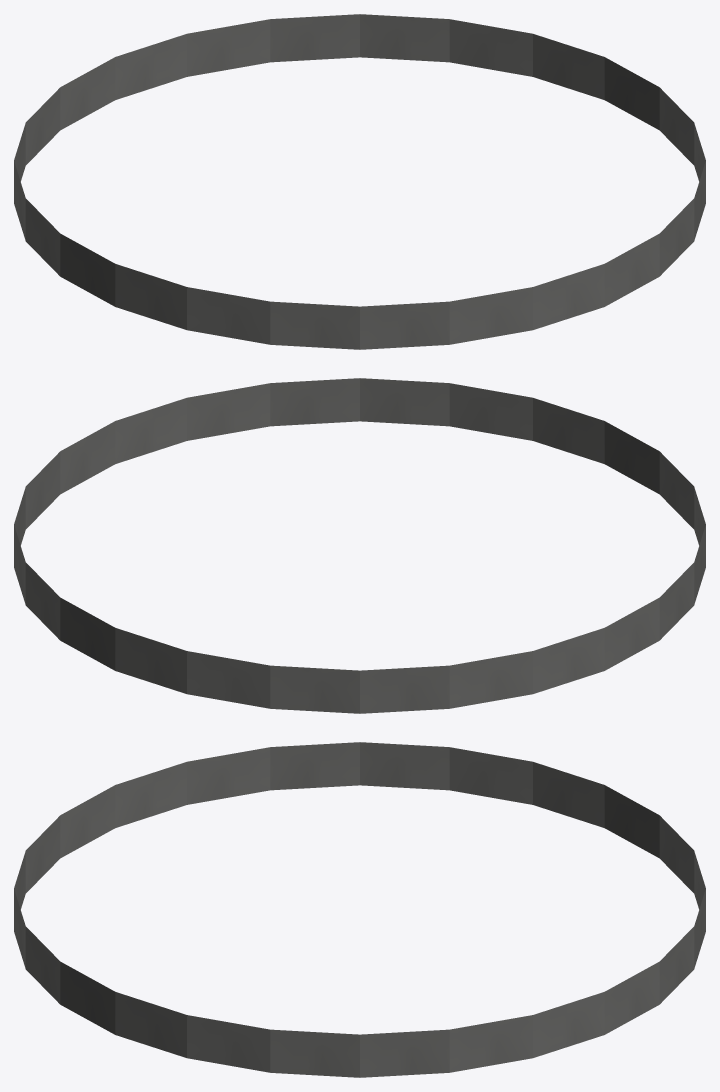
Rendered from table_plate.min.dae.
3 renders of one model, top to bottom at view 1: azimuth 30°, elevation 25°; view 2: azimuth 150°, elevation 25°; view 3: azimuth 270°, elevation 25°, orthographic.
Parts seen in each view (by area): view 1: SketchUp; view 2: SketchUp; view 3: SketchUp.
Part boxes in pixels (bbox=[...]): SketchUp: bbox=[14, 14, 705, 349]; SketchUp: bbox=[14, 378, 705, 713]; SketchUp: bbox=[14, 742, 705, 1077].
Size of what is drawn, in the model's own units: 3.62 by 3.63 by 0.25.
Materials: 1 (1 with a texture image).
